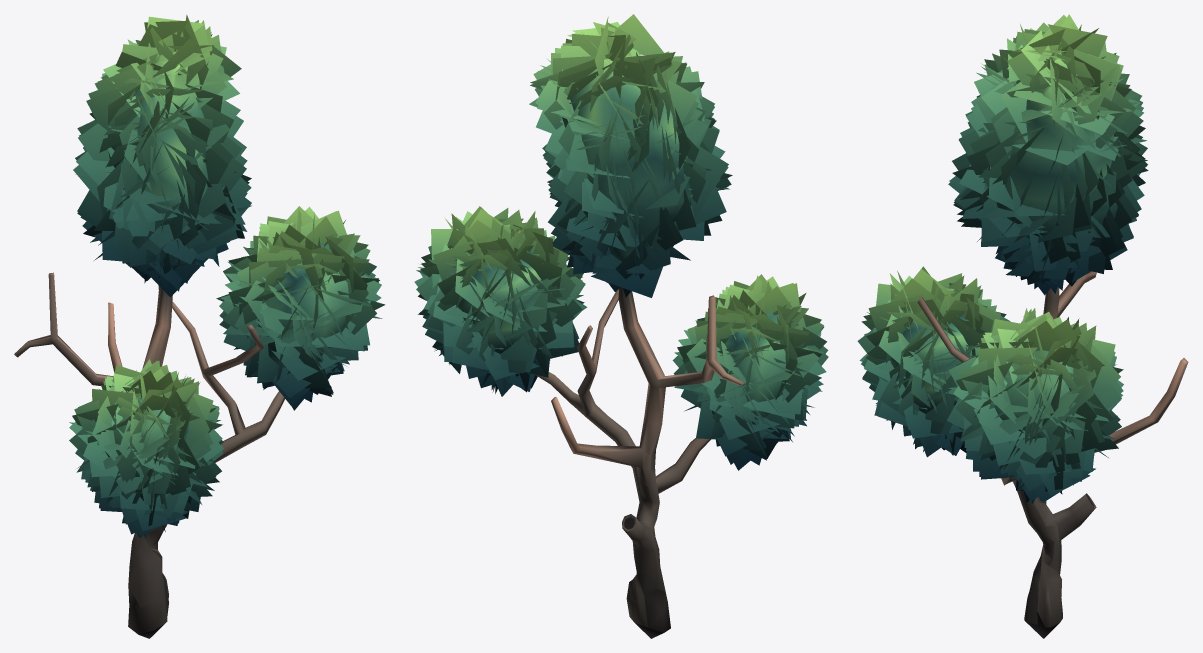
Rendered from Forest_Tree_3D.fbx.
3 renders of one model, left to right at view 1: azimuth 30°, elevation 25°; view 2: azimuth 150°, elevation 25°; view 3: azimuth 270°, elevation 25°, orthographic. The views are drawn at different scales.
Parts seen in each view (by area): view 1: Forest_Tree_3D; view 2: Forest_Tree_3D; view 3: Forest_Tree_3D.
Boxes of the visible parts, x1=… form: Forest_Tree_3D: x1=14, y1=14, x2=385, y2=638; Forest_Tree_3D: x1=414, y1=14, x2=828, y2=638; Forest_Tree_3D: x1=857, y1=14, x2=1188, y2=638.
Size of the model in its own units: 532 by 905 by 427.
